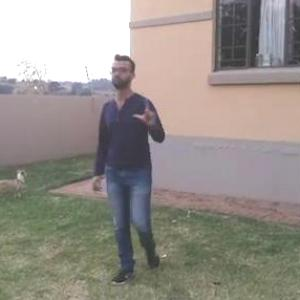land_hand: (131, 93, 157, 127)
